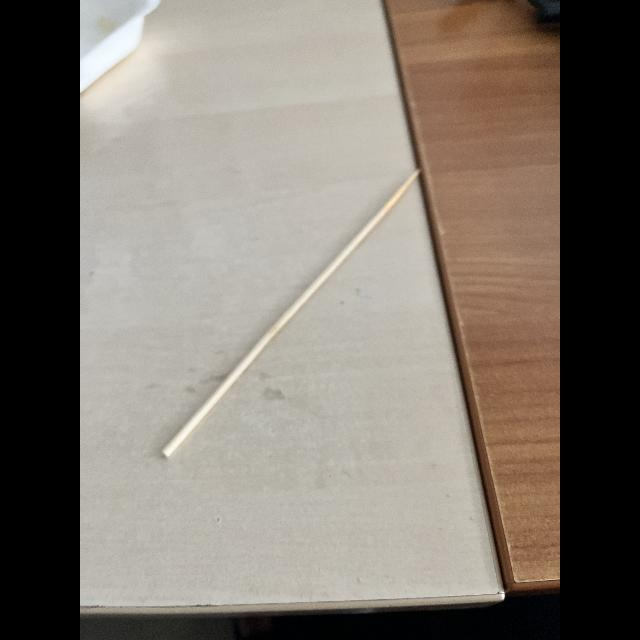stick: (150, 146, 446, 472)
